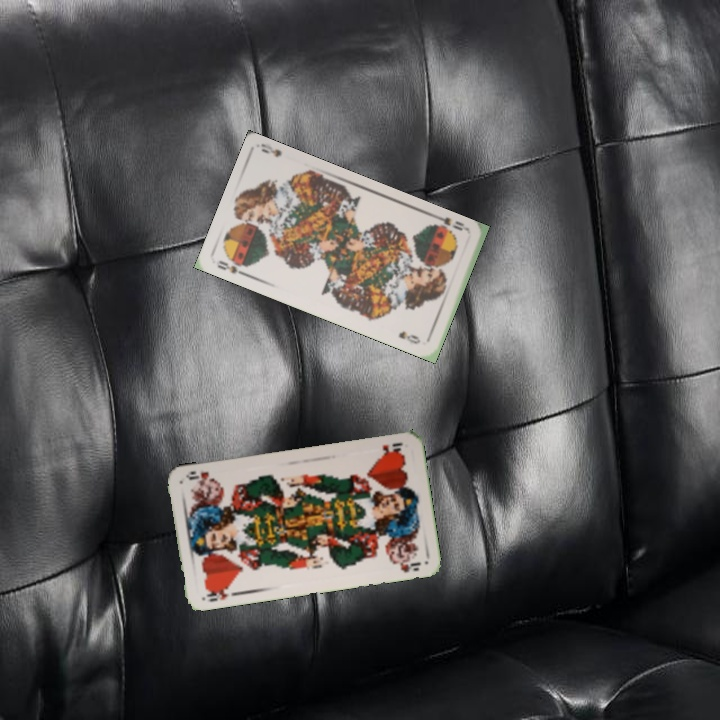HO: (202, 582, 239, 604), (378, 439, 405, 457)
SO: (429, 211, 472, 236), (213, 256, 250, 279)
